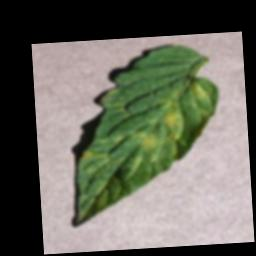Leaf_Mold: (128, 100, 186, 164), (187, 76, 214, 100), (79, 149, 105, 160)
